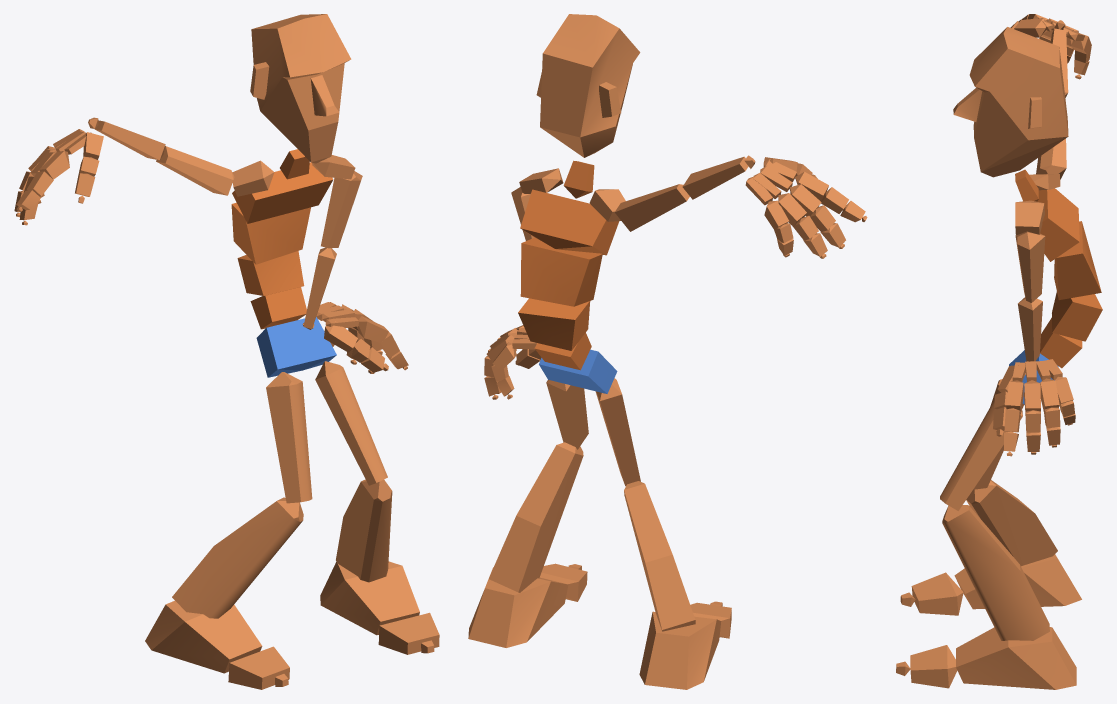
The picture shows the model from 3 angles, left to right: view 1: azimuth 30°, elevation 25°; view 2: azimuth 150°, elevation 25°; view 3: azimuth 270°, elevation 25°; orthographic projection.
Parts seen in each view (by area): view 1: BOPED_Head, BOPED_R_leg, BOPED_R_foot, BOPED_R_foot01, BOPED_L_leg, BOPED_R_legup, BOPED_L_legup, Bone01, Bone04, Bone05, Bone03, BOPED_R_arm_upper (+9 smaller); view 2: BOPED_Head, BOPED_L_leg, BOPED_R_foot01, BOPED_R_leg, BOPED_R_foot, Bone04, Bone05, Bone03, BOPED_R_legup, BOPED_L_legup, Bone01, BOPED_R_arm_upper (+7 smaller); view 3: BOPED_Head, BOPED_L_leg, BOPED_R_foot01, BOPED_R_leg, BOPED_L_legup, BOPED_R_foot, Bone05, Bone04, Bone03, BOPED_R_foot_toe01, BOPED_R_foot_toe04, BOPED_L_arm_upper (+15 smaller).
Boxes of the visible parts, box(x1,y1,x2,y2) form: BOPED_Head: box(250, 14, 351, 163); BOPED_R_leg: box(172, 497, 303, 618); BOPED_R_foot: box(145, 600, 262, 673); BOPED_R_foot01: box(320, 561, 419, 635); BOPED_L_leg: box(336, 479, 392, 582); BOPED_R_legup: box(266, 372, 312, 503); BOPED_L_legup: box(315, 361, 387, 485); Bone01: box(256, 317, 336, 377); Bone04: box(231, 202, 310, 264); Bone05: box(232, 162, 333, 223); Bone03: box(237, 251, 304, 295); BOPED_R_arm_upper: box(156, 146, 234, 195); BOPED_Head: box(536, 14, 640, 157); BOPED_L_leg: box(488, 442, 583, 592); BOPED_R_foot01: box(468, 567, 568, 647); BOPED_R_leg: box(624, 481, 695, 631); BOPED_R_foot: box(639, 611, 721, 689); Bone04: box(520, 237, 602, 306); Bone05: box(520, 189, 619, 255); Bone03: box(518, 298, 590, 350); BOPED_R_legup: box(595, 378, 640, 486); BOPED_L_legup: box(546, 380, 588, 449); Bone01: box(539, 349, 617, 393); BOPED_R_arm_upper: box(614, 184, 689, 231); BOPED_Head: box(953, 27, 1068, 177); BOPED_L_leg: box(942, 505, 1049, 640); BOPED_R_foot01: box(956, 627, 1076, 689); BOPED_R_leg: box(966, 480, 1057, 566); BOPED_L_legup: box(940, 400, 1022, 510); BOPED_R_foot: box(954, 554, 1081, 609); Bone05: box(1037, 188, 1079, 261); Bone04: box(1054, 221, 1101, 300); Bone03: box(1052, 291, 1102, 341); BOPED_R_foot_toe01: box(911, 572, 963, 615); BOPED_R_foot_toe04: box(910, 645, 957, 688); BOPED_L_arm_upper: box(1015, 231, 1045, 302).
Size of the model in its own units: 120 by 183 by 56.5.
